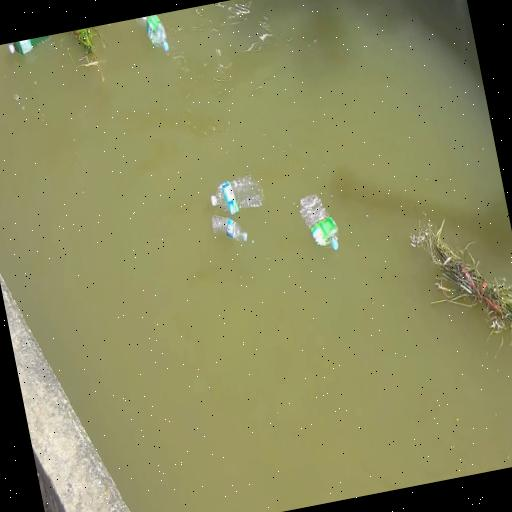plastic: (296, 182, 342, 258), (204, 168, 270, 218), (5, 34, 65, 68), (132, 12, 174, 60), (206, 212, 255, 252)
twig: (420, 214, 512, 350), (72, 26, 106, 75)
